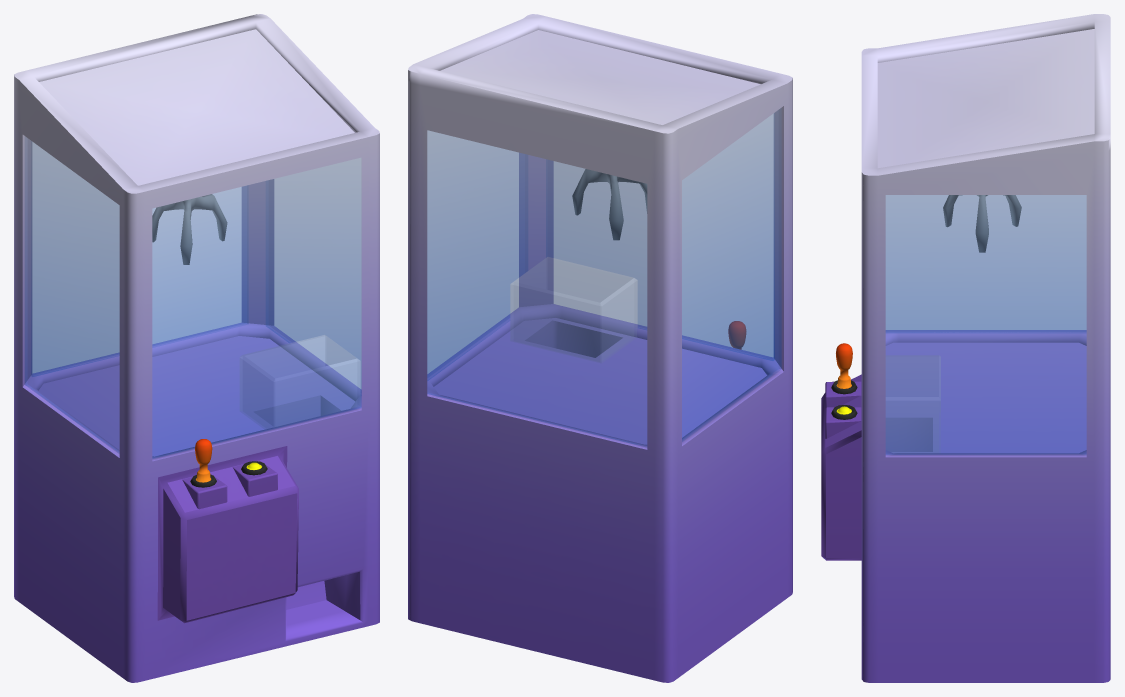
Rendered from Claw_Machine.fbx.
3 renders of one model, left to right at view 1: azimuth 30°, elevation 25°; view 2: azimuth 150°, elevation 25°; view 3: azimuth 270°, elevation 25°, orthographic. The views are drawn at different scales.
Visible parts, largest first — view 1: Claw_Machine, Outside_Glass, Inside_Glass, Claw; view 2: Claw_Machine, Outside_Glass, Inside_Glass, Claw; view 3: Claw_Machine, Outside_Glass, Inside_Glass, Claw.
Boxes of the visible parts, bbox=[...] form: Claw_Machine: bbox=[14, 14, 379, 682]; Outside_Glass: bbox=[25, 136, 361, 458]; Inside_Glass: bbox=[240, 335, 360, 428]; Claw: bbox=[152, 194, 227, 264]; Claw_Machine: bbox=[408, 14, 792, 682]; Outside_Glass: bbox=[427, 108, 781, 446]; Inside_Glass: bbox=[510, 257, 637, 361]; Claw: bbox=[572, 169, 647, 240]; Claw_Machine: bbox=[821, 14, 1110, 682]; Outside_Glass: bbox=[885, 195, 1086, 454]; Inside_Glass: bbox=[886, 355, 940, 452]; Claw: bbox=[943, 195, 1021, 252].
Bounding box in the file's own units: 1.18 × 2.34 × 1.13.
